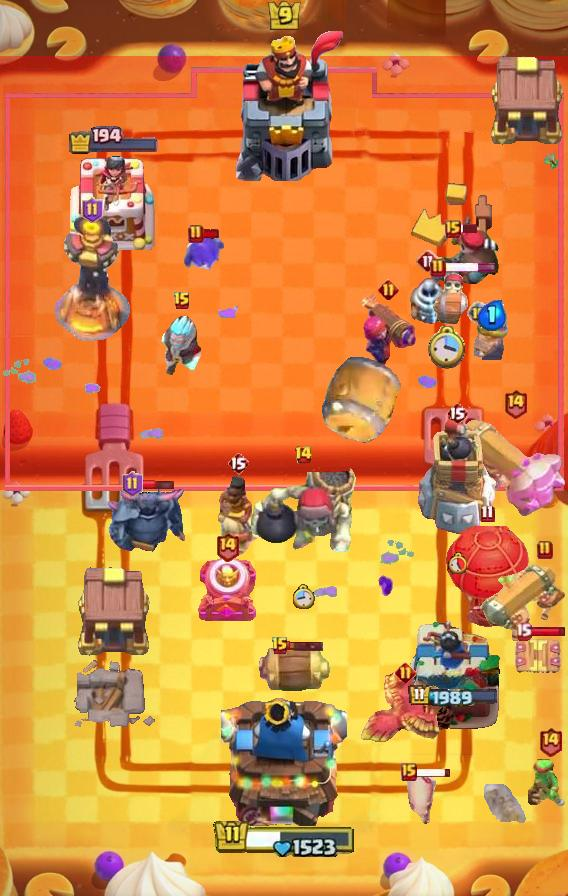battle-healer: (478, 562, 568, 644)
bomb: (488, 53, 568, 147), (75, 564, 155, 658)
cannon-cart: (445, 526, 529, 628)
clock: (213, 816, 355, 857)
dirt: (319, 353, 403, 447)
electro-dragon: (53, 216, 131, 344)
electro-giant: (247, 458, 359, 568)
electro-spirit: (477, 301, 506, 332)
elite-barbarian: (215, 475, 261, 555)
elixir: (428, 326, 466, 370), (292, 584, 315, 609), (448, 552, 468, 574)
emote: (444, 262, 497, 273), (140, 478, 176, 491), (287, 640, 324, 652), (530, 626, 567, 637), (416, 766, 453, 777), (202, 228, 221, 240), (459, 222, 479, 233)
fisherman: (484, 784, 526, 830)
furnace: (458, 419, 568, 525)
giant: (402, 770, 436, 828)
giant-snowball: (528, 758, 568, 808)
goblin-brawler: (512, 636, 562, 676)
goblin-cage: (195, 555, 259, 625)
goblin-drill: (405, 271, 451, 325)
goblin-giant: (474, 315, 510, 361)
golemite: (104, 485, 188, 557)
king-tower: (223, 31, 345, 181), (221, 690, 347, 826)
knight: (421, 272, 473, 326)
mega-minion: (358, 292, 418, 372)
mortar: (158, 314, 206, 380)
mother-witch: (357, 671, 453, 747)
phoenix-small: (428, 227, 502, 289)
queen-tower: (404, 617, 502, 731), (67, 152, 161, 256)
selected: (68, 126, 160, 154), (409, 684, 500, 709)
spear-goblin: (184, 233, 226, 273)
text: (504, 389, 529, 420), (215, 531, 240, 561), (538, 727, 563, 757), (416, 249, 440, 273), (467, 301, 491, 325), (82, 197, 103, 223), (121, 471, 142, 497), (446, 401, 468, 425), (227, 451, 249, 475), (396, 661, 417, 683), (378, 280, 399, 301), (294, 445, 313, 465), (173, 291, 191, 311), (271, 636, 289, 656), (188, 224, 204, 244), (430, 258, 446, 278), (537, 540, 553, 560), (515, 623, 532, 641), (445, 220, 461, 238), (401, 763, 417, 781), (481, 505, 495, 524)
the-log: (255, 645, 331, 695)
zappy: (414, 416, 500, 536)
